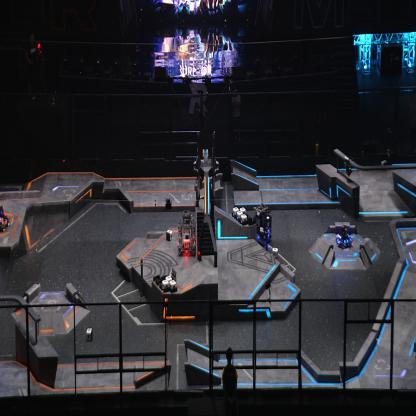car: (249, 204, 273, 244), (177, 208, 196, 256), (335, 223, 353, 250), (0, 202, 9, 231)
